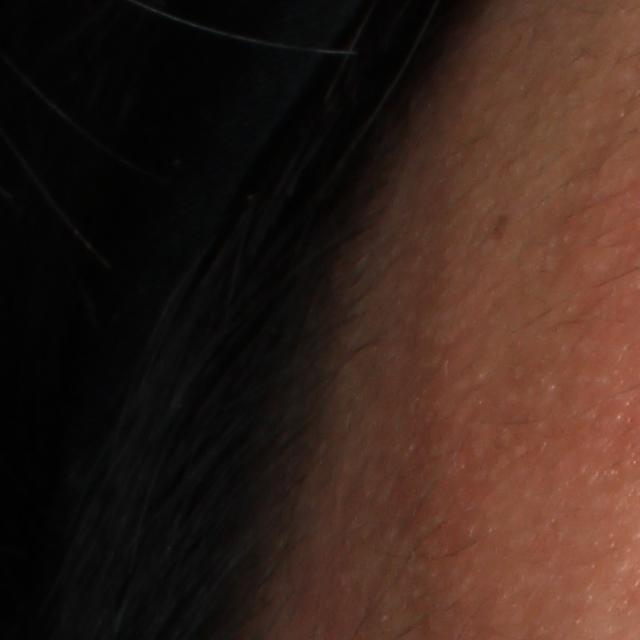nevus: (483, 211, 513, 241)
